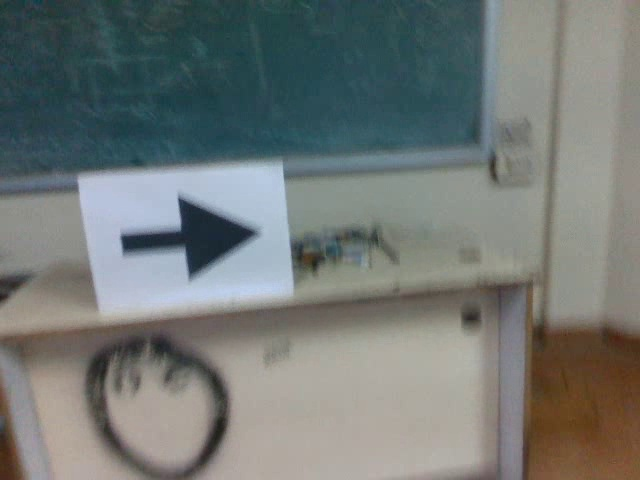Right: (117, 187, 267, 284)
